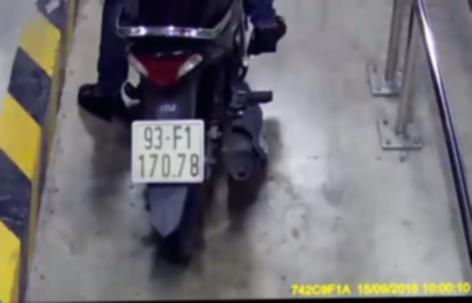License_Plate: (128, 117, 213, 186)
